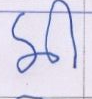i_matra: (53, 0, 82, 67)
